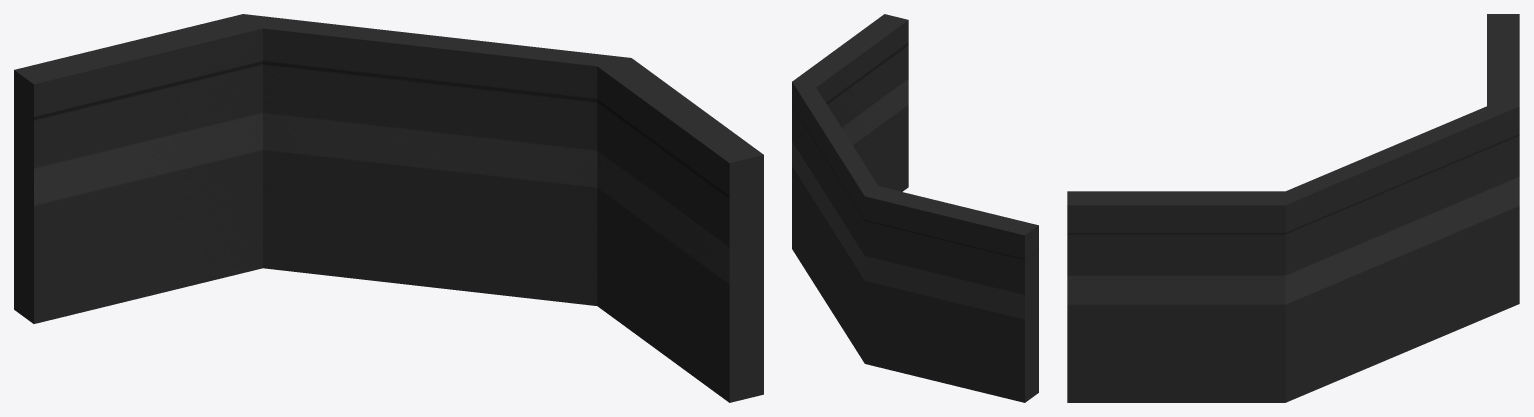
The model's file is Corner_01.fbx.
3 views of the same model, side by side, from view 1: azimuth 30°, elevation 25°; view 2: azimuth 150°, elevation 25°; view 3: azimuth 270°, elevation 25° (orthographic). The views are drawn at different scales.
Parts seen in each view (by area): view 1: Corner_01 Low Poly; view 2: Corner_01 Low Poly; view 3: Corner_01 Low Poly.
Boxes of the visible parts, bbox=[...] form: Corner_01 Low Poly: bbox=[14, 14, 763, 402]; Corner_01 Low Poly: bbox=[792, 14, 1038, 402]; Corner_01 Low Poly: bbox=[1067, 14, 1519, 402].
Size of the model in its own units: 415 by 200 by 415.
1 material, 1 textured.
